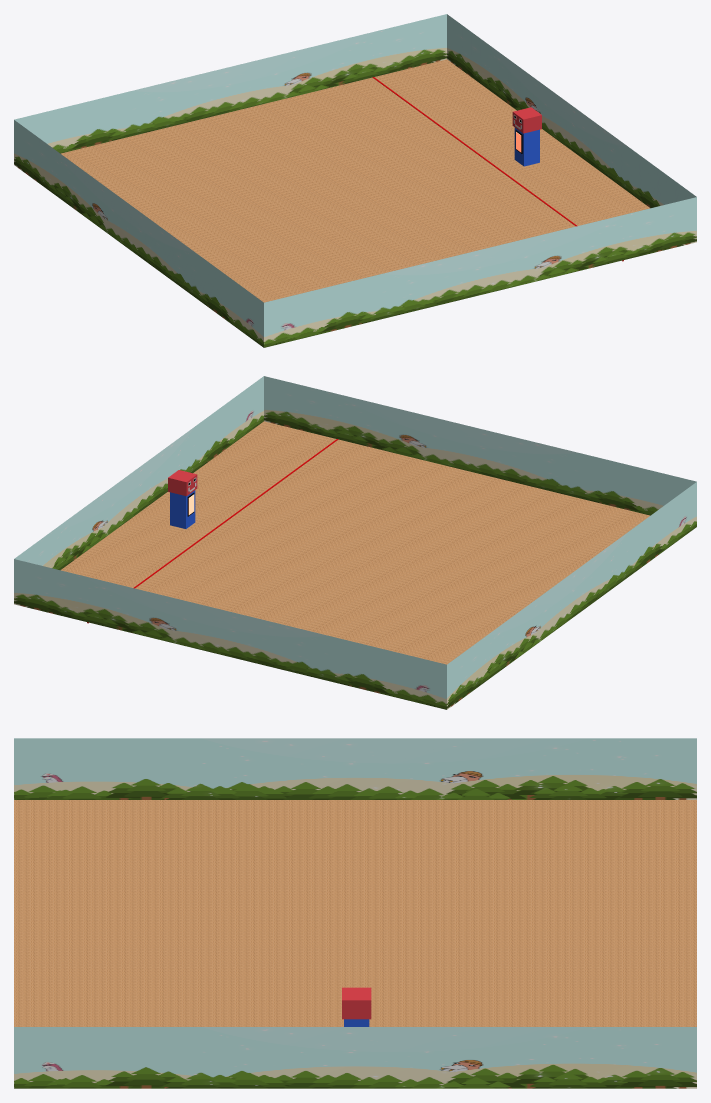
Rendered from wassiefirst.glb.
3 views of the same model, one above another, from view 1: azimuth 30°, elevation 25°; view 2: azimuth 150°, elevation 25°; view 3: azimuth 270°, elevation 25° (orthographic). The views are drawn at different scales.
Parts seen in each view (by area): view 1: Plane, Plane.002, Plane.001, Plane.004, Plane.003, Cube, head; view 2: Plane, Plane.001, Plane.002, Plane.004, Plane.003, Cube, head; view 3: Plane, Plane.003, Plane.004, head.
Part boxes in pixels (x1,y1,x2,y2): Plane: [61, 59, 649, 302]; Plane.002: [264, 197, 696, 347]; Plane.001: [14, 14, 446, 153]; Plane.004: [14, 120, 263, 347]; Plane.003: [447, 14, 696, 208]; Cube: [514, 127, 539, 166]; head: [512, 107, 541, 133]; Plane: [61, 421, 649, 664]; Plane.001: [14, 559, 446, 709]; Plane.002: [264, 376, 696, 515]; Plane.004: [447, 482, 696, 709]; Plane.003: [14, 376, 263, 570]; Cube: [170, 490, 195, 528]; head: [168, 470, 197, 496]; Plane: [14, 800, 696, 1026]; Plane.003: [14, 1027, 696, 1088]; Plane.004: [14, 738, 696, 799]; head: [342, 987, 371, 1019].
Bounding box in the file's own units: 300 × 32.8 × 300.
9 materials, 2 textured.
